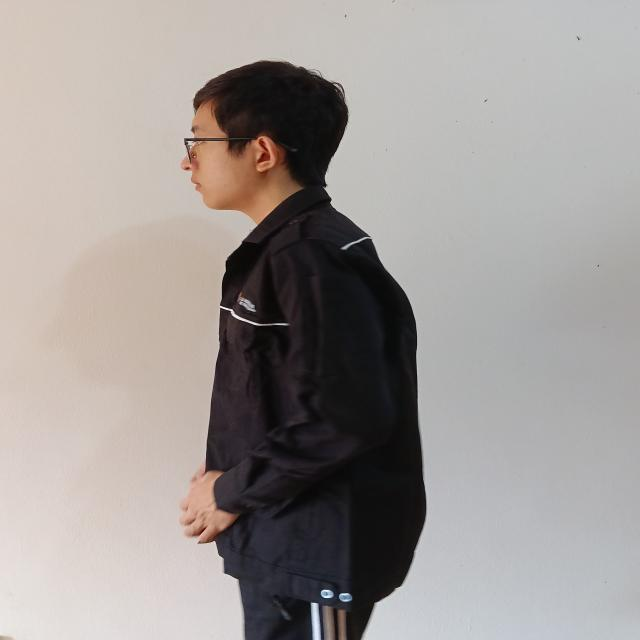person_with_labcoat: (180, 61, 425, 640)
